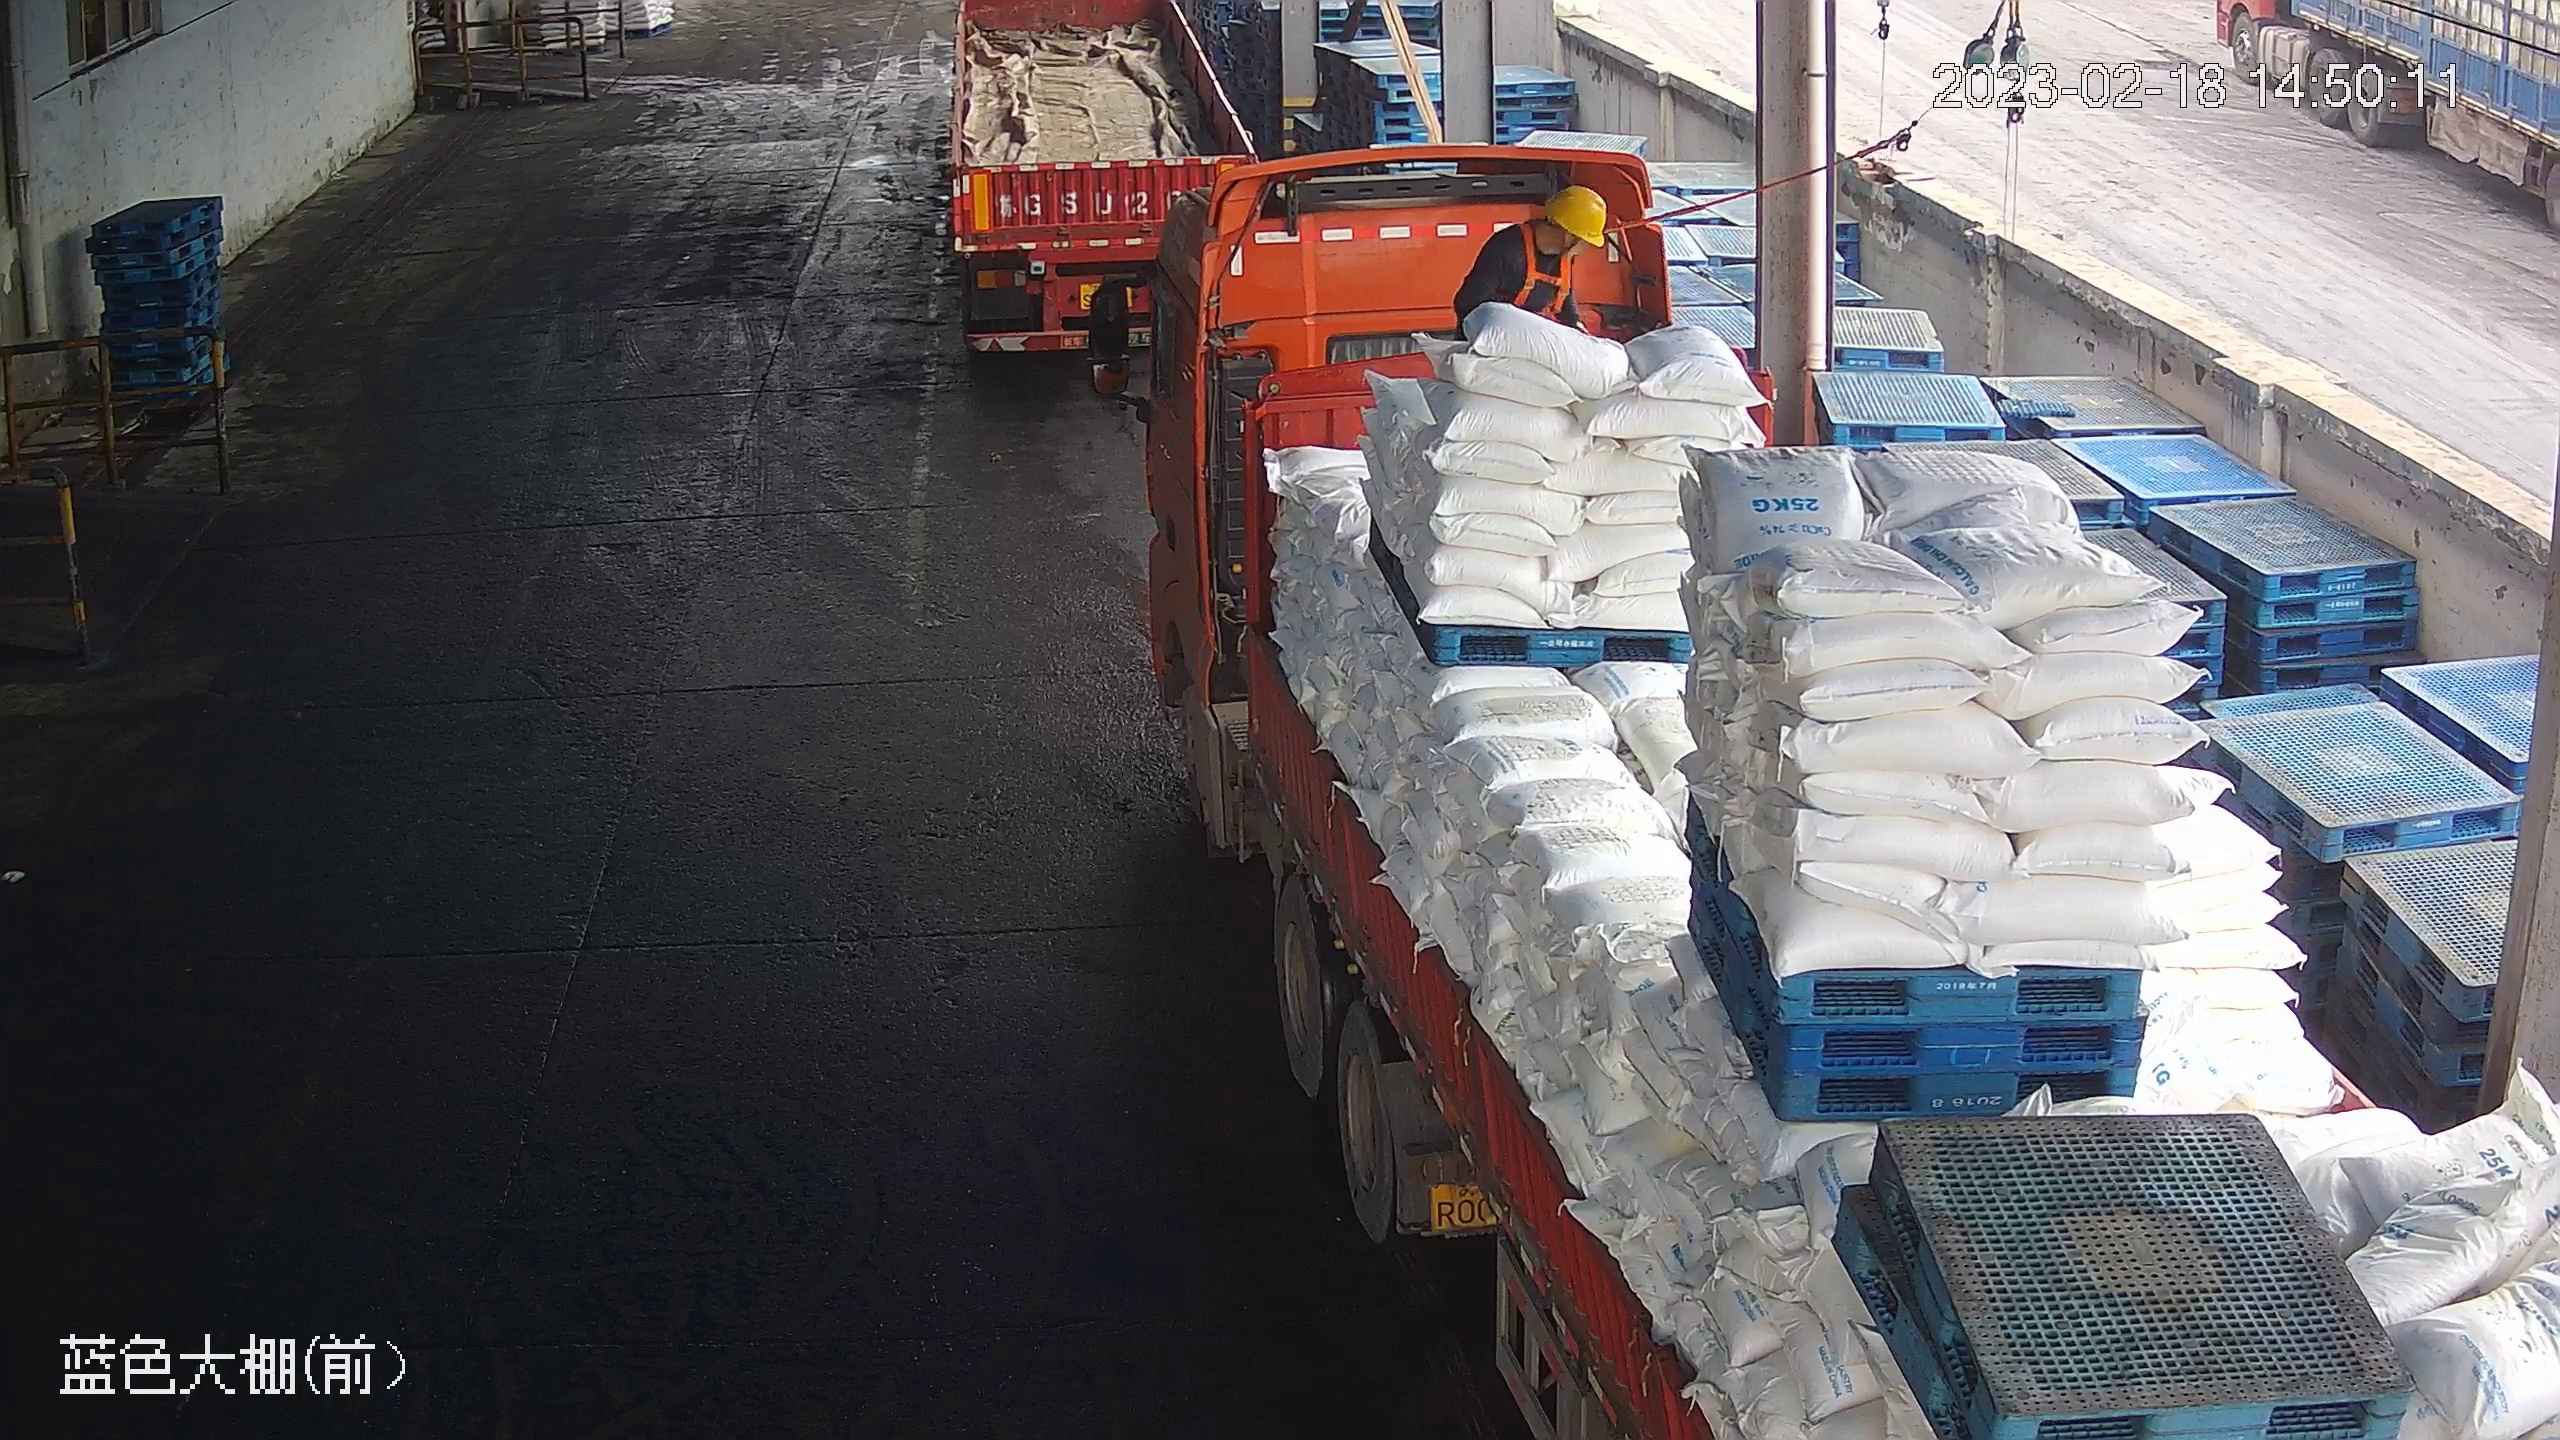belt: (1504, 225, 1581, 324)
head: (1481, 180, 1610, 287)
helmet: (1546, 182, 1609, 247)
truck: (1053, 114, 2559, 1440), (935, 1, 1260, 371)
